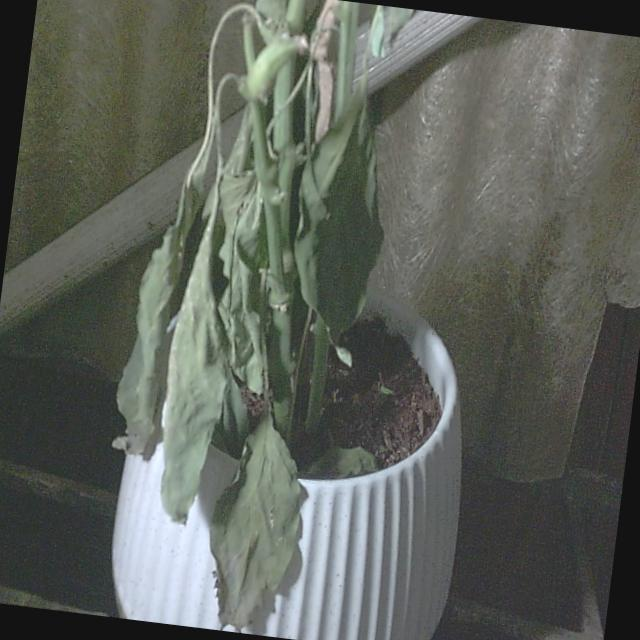Leaf: (106, 111, 216, 464), (279, 73, 403, 370), (152, 215, 250, 528), (195, 414, 313, 636)
